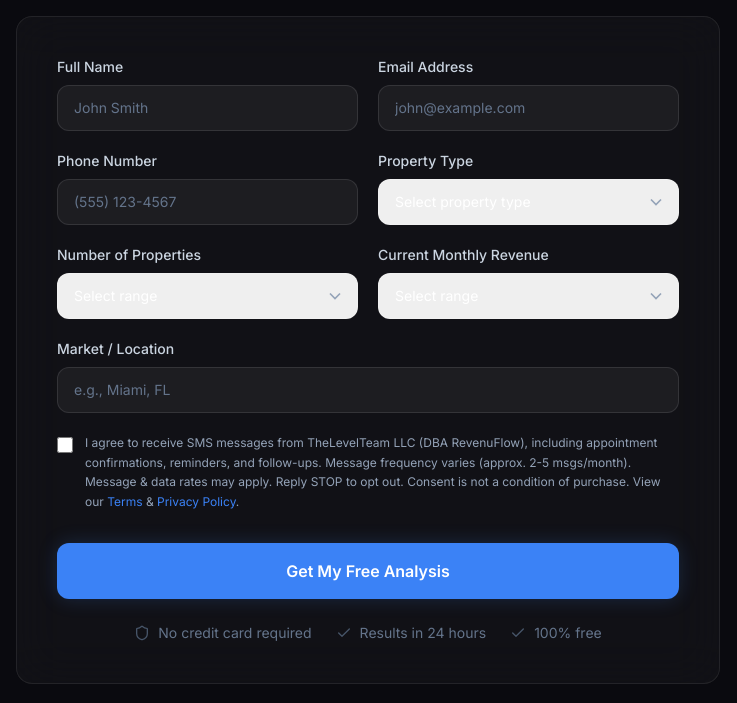
CTASection › validation › clears field error when user starts typing
(page scrolled)
Trigger name error
Submit the form
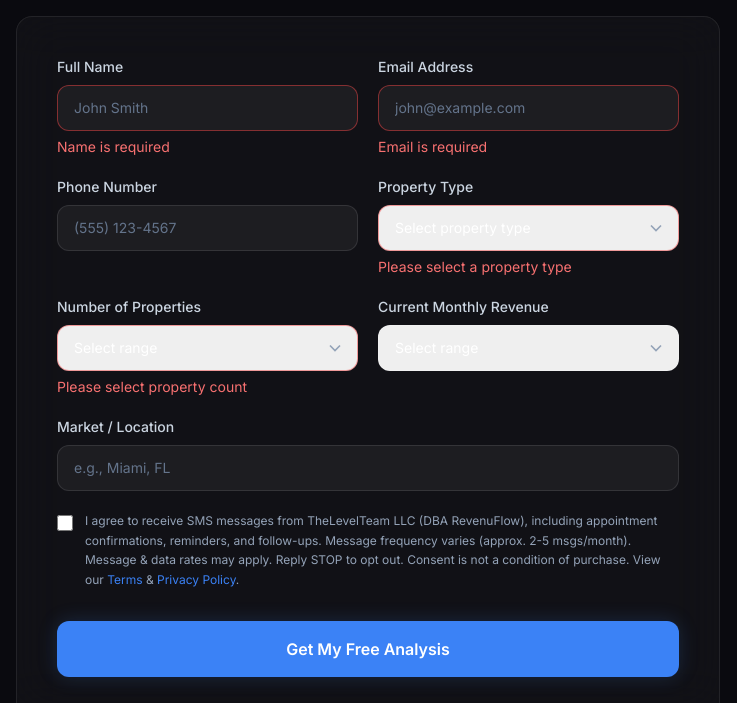
Check: the text "Name is required" is shown, box [57, 138, 170, 155]
Start typing in name field
Type "J" into the field with placeholder "John Smith".
click(208, 108); type("J")  # box [57, 85, 358, 131]
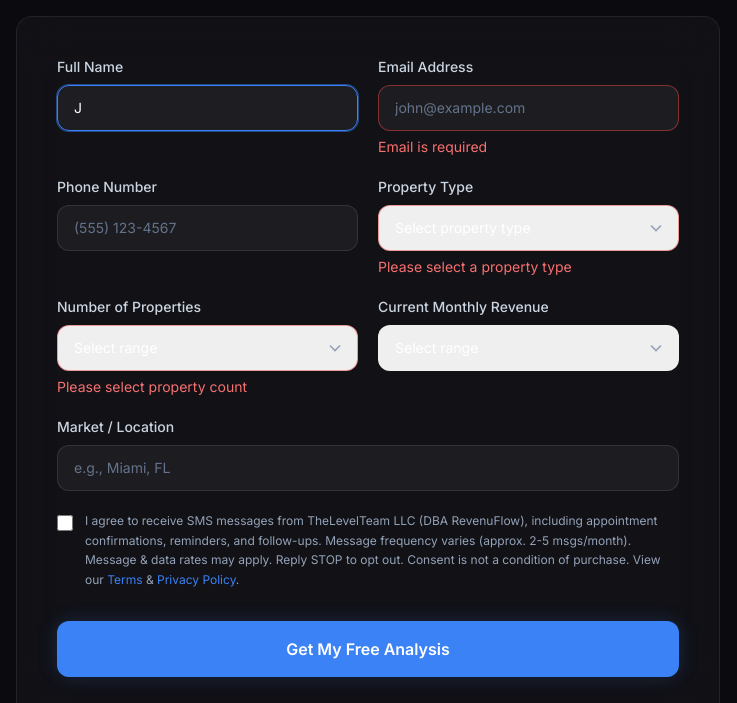
Check: the text "Name is required" is gone
